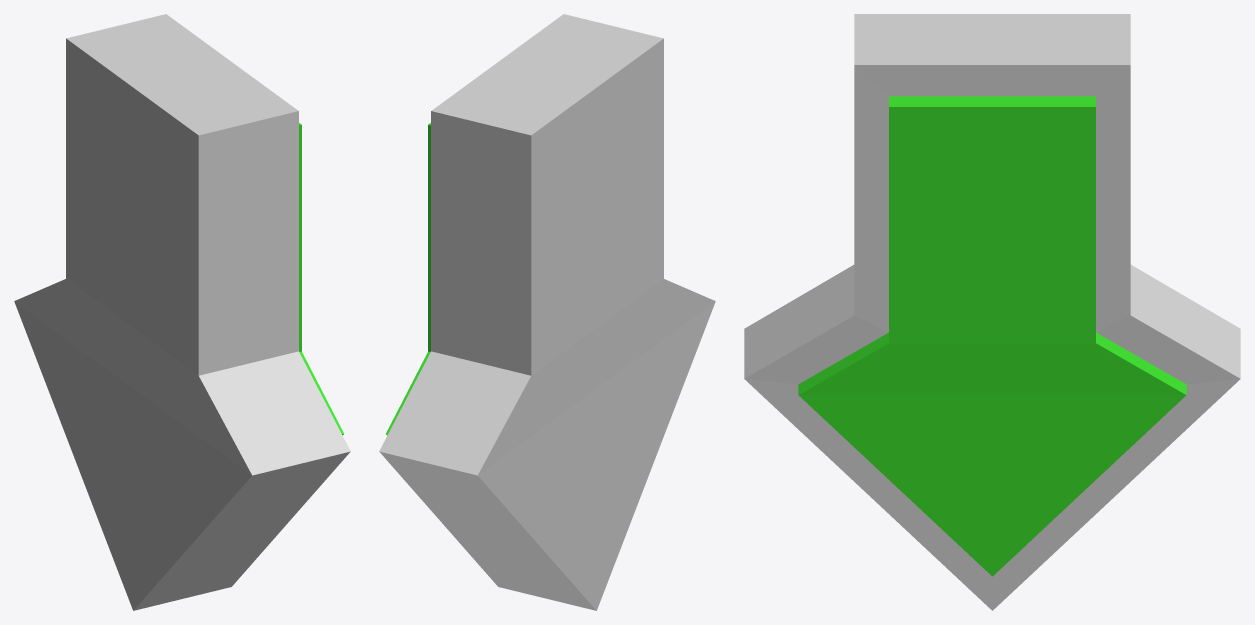
File: Arrow.fbx
3 views of the same model, side by side, from view 1: azimuth 30°, elevation 25°; view 2: azimuth 150°, elevation 25°; view 3: azimuth 270°, elevation 25° (orthographic). The views are drawn at different scales.
Visible parts, largest first — view 1: Cube; view 2: Cube; view 3: Cube.
Boxes of the visible parts, x1,y1,x2,y2 form: Cube: [14, 14, 350, 610]; Cube: [379, 14, 715, 610]; Cube: [744, 14, 1240, 610].
Bounding box in the file's own units: 104 × 436 × 359.
